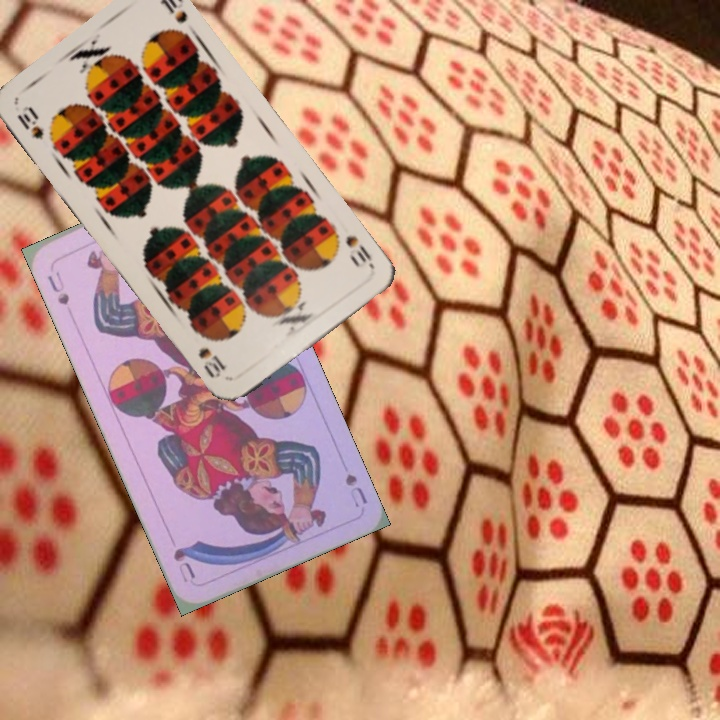S10: (13, 102, 47, 143), (341, 231, 374, 266)
SU: (341, 470, 371, 510), (43, 267, 72, 308)
